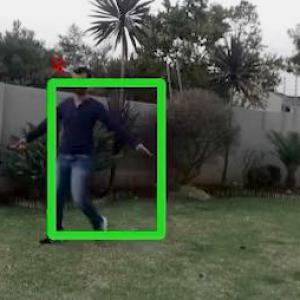land: (11, 64, 157, 243)
